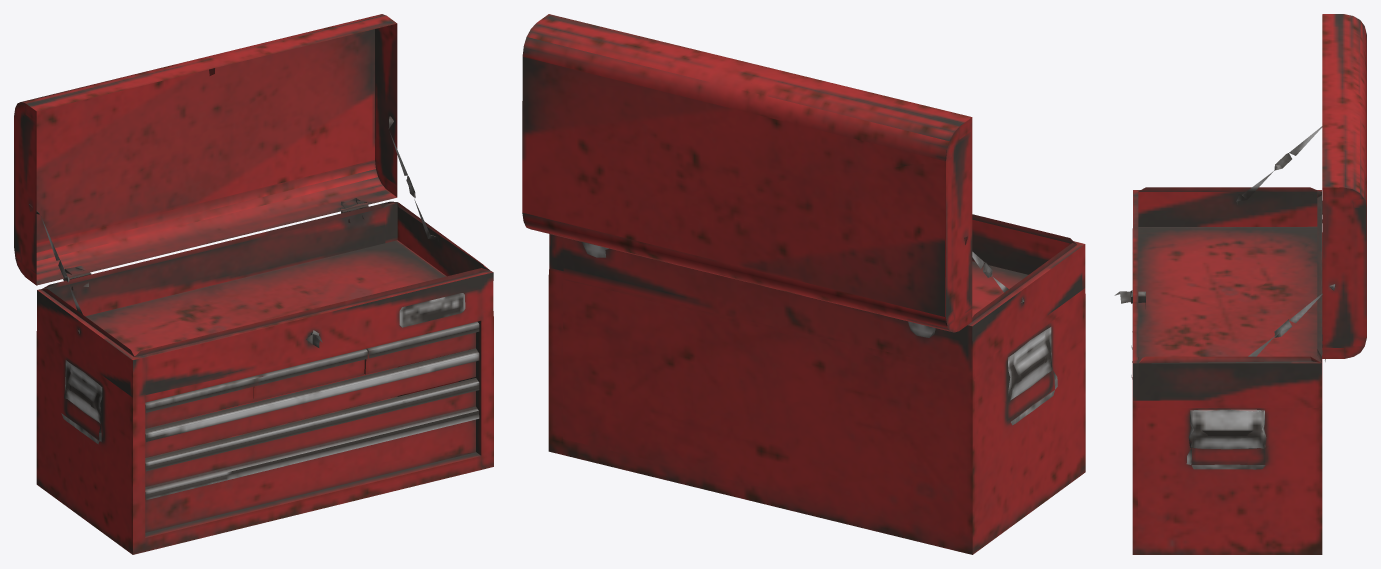
File: tool_chest.glb
3 views of the same model, side by side, from view 1: azimuth 30°, elevation 25°; view 2: azimuth 150°, elevation 25°; view 3: azimuth 270°, elevation 25° (orthographic). The views are drawn at different scales.
Visible parts, largest first — view 1: mesh; view 2: mesh; view 3: mesh.
Part boxes in pixels (<box>): mesh: <box>14,14,493,554</box>; mesh: <box>522,14,1085,554</box>; mesh: <box>1114,14,1366,554</box>.
Size of the model in its own units: 0.6756 by 0.6518 by 0.4065.
Materials: 1 (1 with a texture image).
